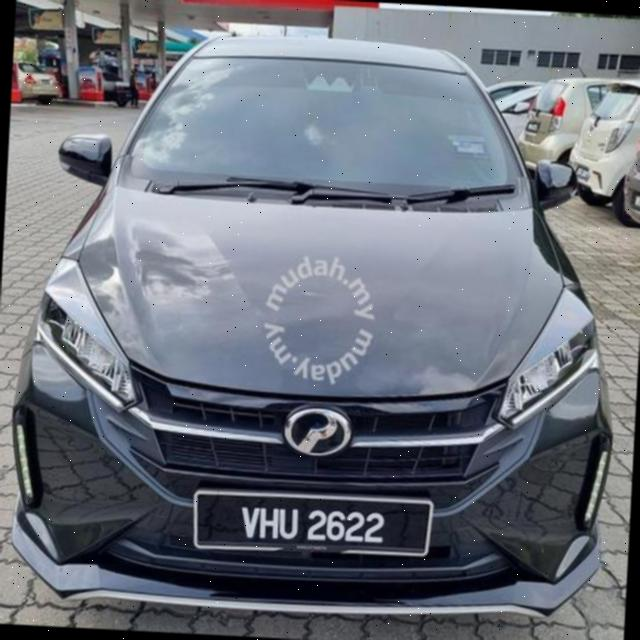License_Plate: (183, 484, 441, 567)
car: (1, 20, 637, 634)
